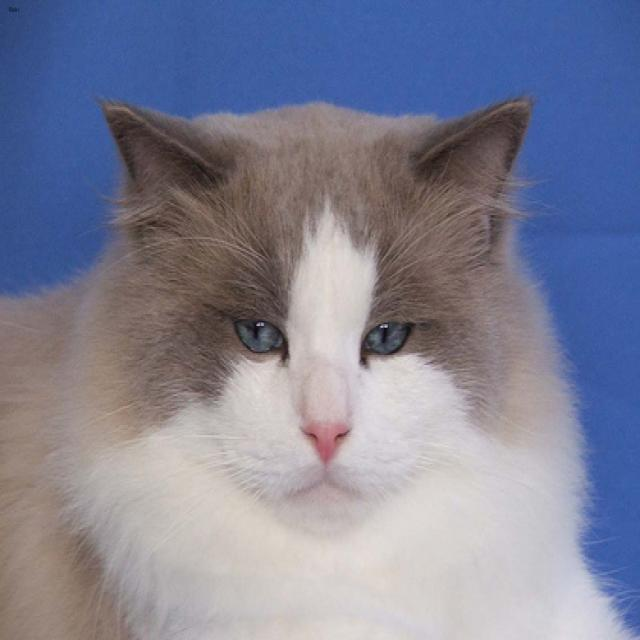Ragdoll: (103, 97, 528, 534)
